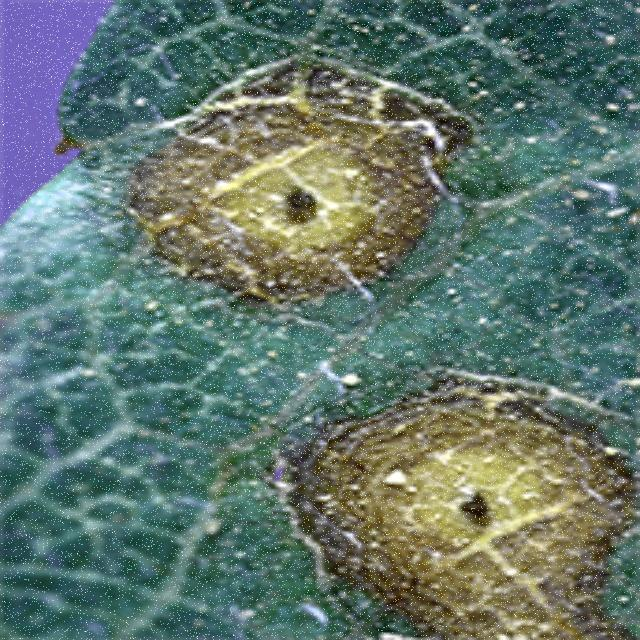leaf_spot: (111, 2, 633, 640)
